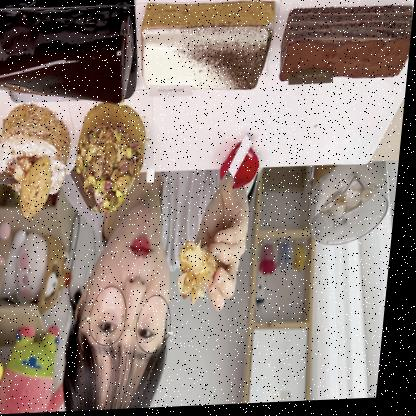streamer: (48, 170, 267, 413)
